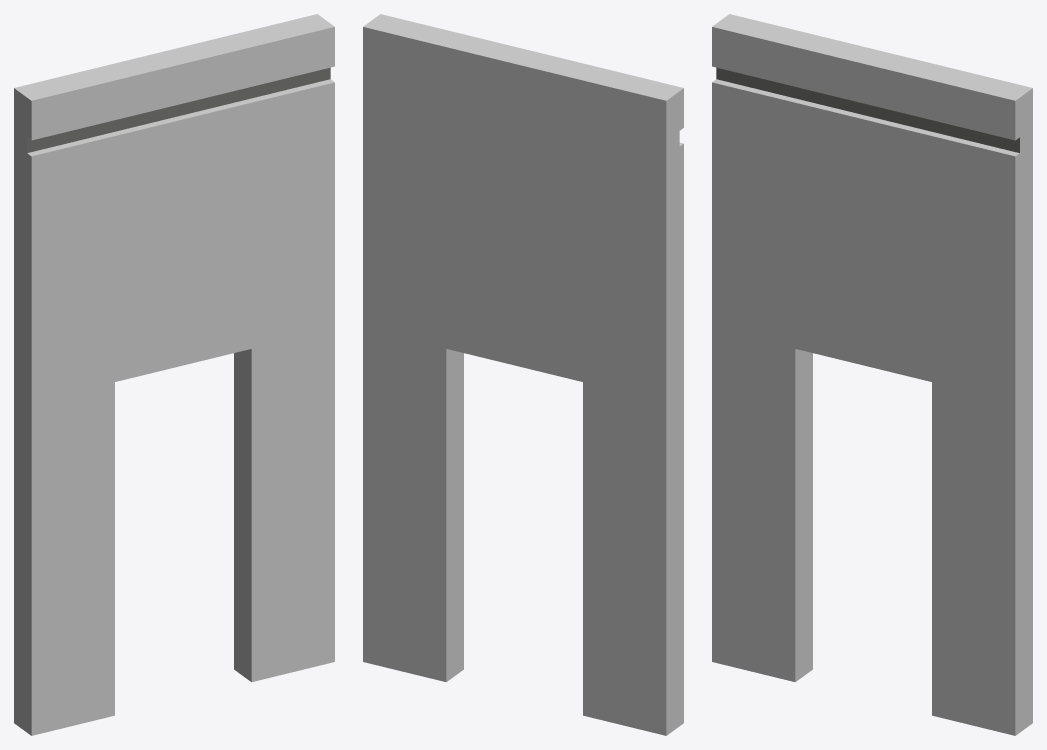
Rendered from Entrance_WallDoor.fbx.
3 views of the same model, side by side, from view 1: azimuth 30°, elevation 25°; view 2: azimuth 150°, elevation 25°; view 3: azimuth 330°, elevation 25° (orthographic).
Visible parts, largest first — view 1: Entrance_WallDoor; view 2: Entrance_WallDoor; view 3: Entrance_WallDoor.
Part boxes in pixels (x1=…): Entrance_WallDoor: x1=14, y1=14, x2=334, y2=735; Entrance_WallDoor: x1=363, y1=14, x2=683, y2=735; Entrance_WallDoor: x1=712, y1=14, x2=1032, y2=735.
Bounding box in the file's own units: 2 × 4 × 0.2.
